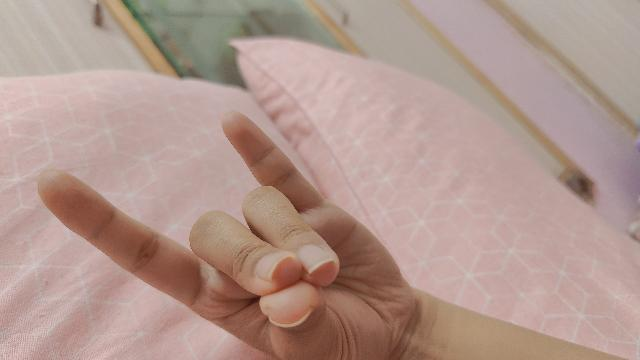sinhamukh: (37, 112, 594, 360)
